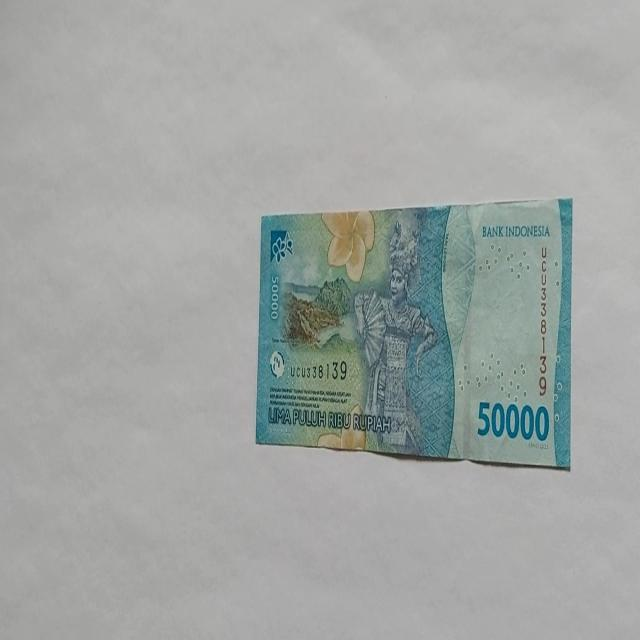lima puluh ribu rupiah: (254, 195, 573, 470)
